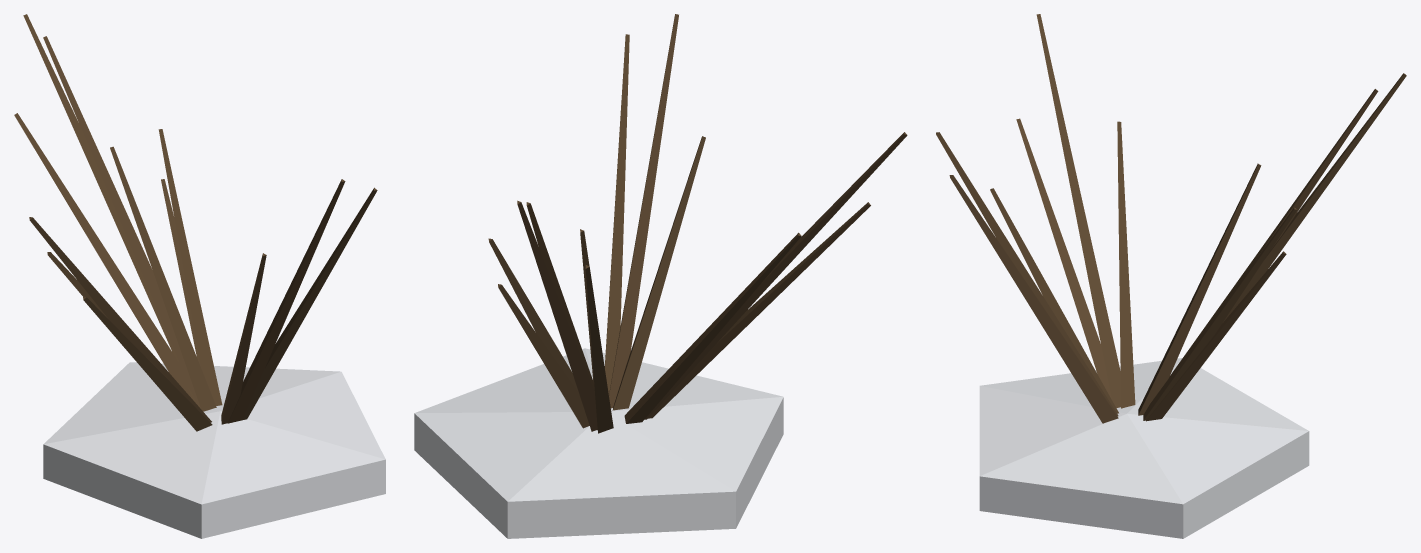
Rendered from a3g_bare_shrub.glb.
The picture shows the model from 3 angles, left to right: view 1: azimuth 30°, elevation 25°; view 2: azimuth 150°, elevation 25°; view 3: azimuth 270°, elevation 25°; orthographic projection. The views are drawn at different scales.
Parts seen in each view (by area): view 1: a3g_bare_shrub; view 2: a3g_bare_shrub; view 3: a3g_bare_shrub.
Part boxes in pixels (x1=…): a3g_bare_shrub: x1=14, y1=14, x2=385, y2=538; a3g_bare_shrub: x1=414, y1=14, x2=907, y2=538; a3g_bare_shrub: x1=936, y1=14, x2=1406, y2=538.
Size of the model in its own units: 1.05 by 0.9901 by 1.11.
